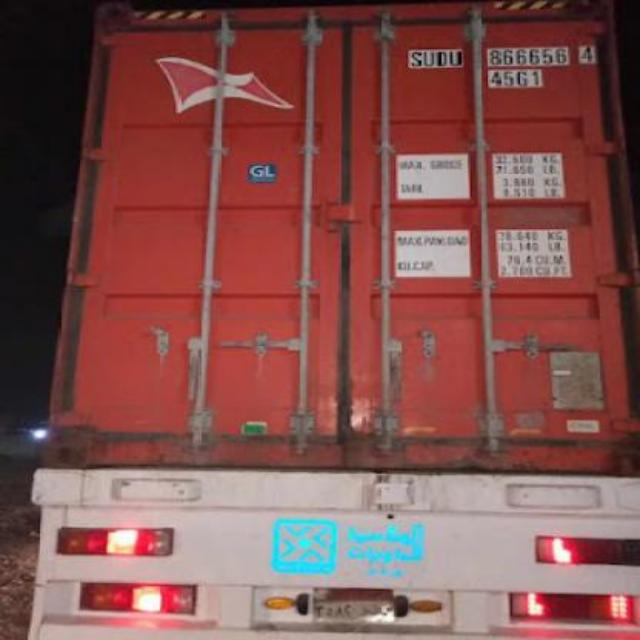4: (574, 42, 596, 66)
5: (540, 40, 554, 70)
6: (552, 40, 568, 70), (516, 46, 528, 70), (528, 42, 540, 66), (502, 44, 514, 66)
8: (488, 44, 502, 66)
D: (436, 43, 446, 73)
S: (410, 43, 420, 69)
U: (446, 45, 464, 71), (422, 46, 436, 66)
